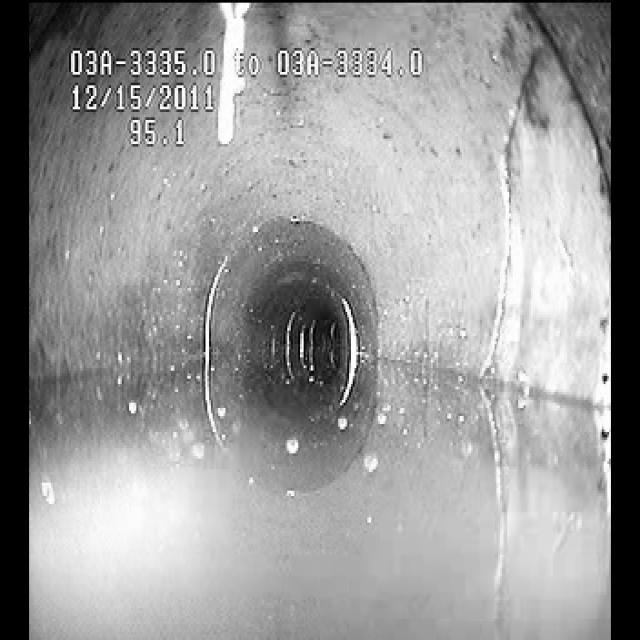Fracture: (466, 58, 550, 354)
